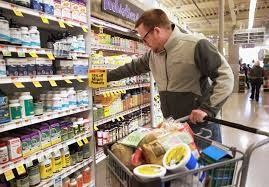with_basket: (106, 111, 263, 185)
without_mask: (137, 8, 166, 53)
